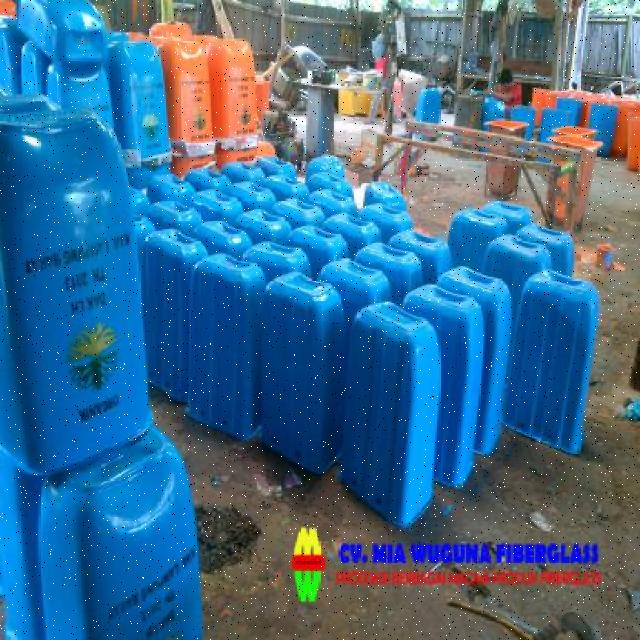garbage container: (1, 114, 164, 480), (29, 433, 203, 639), (339, 301, 443, 534), (493, 268, 609, 457)
